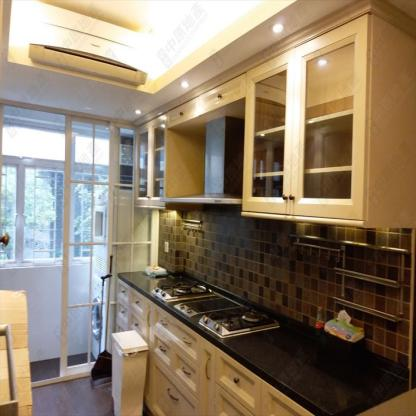Cupboard: (238, 12, 371, 227), (135, 112, 167, 209)
Exhaust Hood: (161, 116, 243, 204)
Stove: (199, 303, 284, 341), (152, 280, 213, 304)
